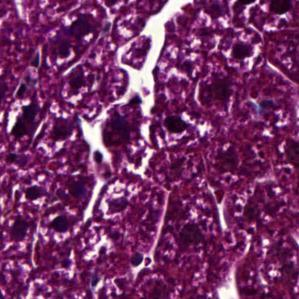inflammation: (149, 109, 198, 152), (224, 34, 266, 75), (6, 95, 41, 140)
